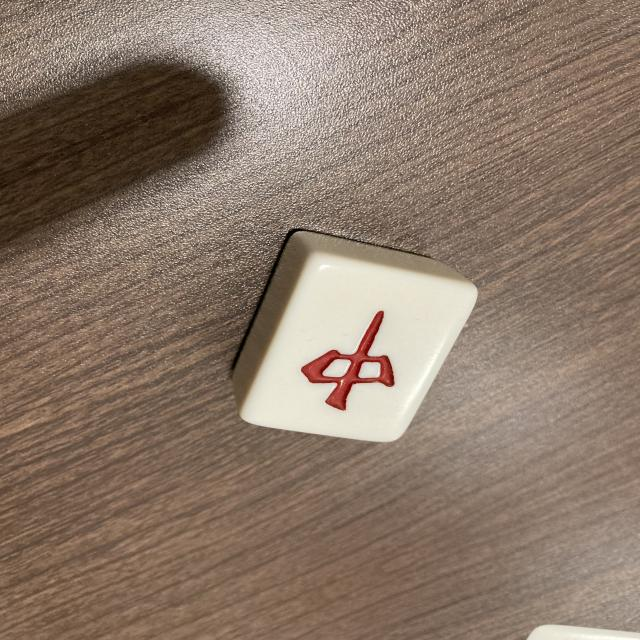RD: (242, 252, 477, 446)
